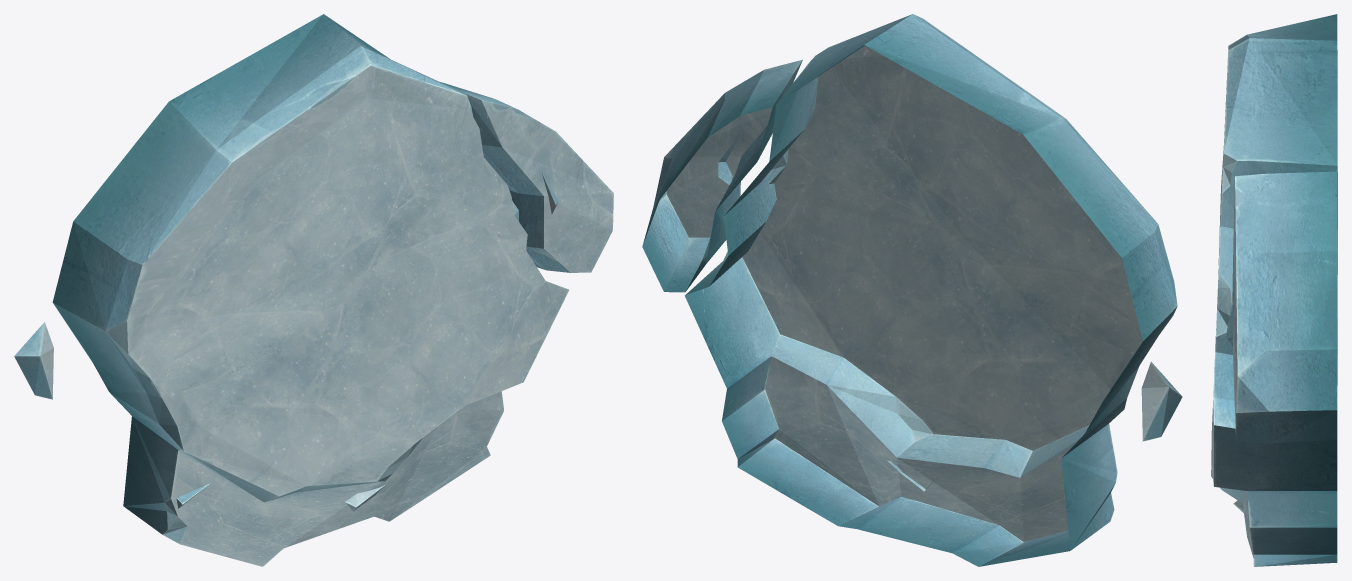
File: huodong_fuben_382_bingkuai03.obj
3 views of the same model, side by side, from view 1: azimuth 30°, elevation 25°; view 2: azimuth 150°, elevation 25°; view 3: azimuth 270°, elevation 25° (orthographic). The views are drawn at different scales.
Parts seen in each view (by area): view 1: huodong_fuben_382_bingkuai03; view 2: huodong_fuben_382_bingkuai03; view 3: huodong_fuben_382_bingkuai03.
Boxes of the visible parts, <box> form: huodong_fuben_382_bingkuai03: <box>14,14,613,566</box>; huodong_fuben_382_bingkuai03: <box>642,14,1182,566</box>; huodong_fuben_382_bingkuai03: <box>1211,14,1337,566</box>.
Bounding box in the file's own units: 689 × 587 × 132.
Materials: 3 (3 with a texture image).
